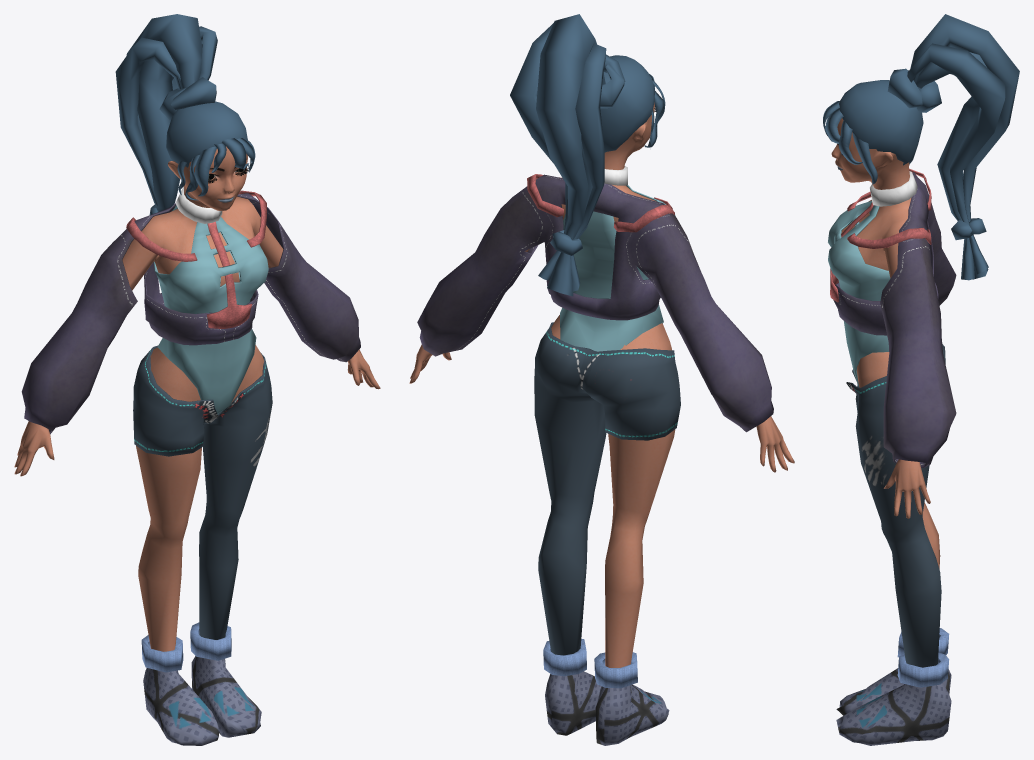
Rendered from normal girl2.gltf.
The picture shows the model from 3 angles, left to right: view 1: azimuth 30°, elevation 25°; view 2: azimuth 150°, elevation 25°; view 3: azimuth 270°, elevation 25°; orthographic projection. The views are drawn at different scales.
Visible parts, largest first — view 1: ribbons.001, body_Mesh.003, BezierCurve.003; view 2: ribbons.001, BezierCurve.003, body_Mesh.003; view 3: ribbons.001, BezierCurve.003, body_Mesh.003.
Part boxes in pixels (<box>): ribbons.001: <box>21,186,360,745</box>; body_Mesh.003: <box>14,146,380,651</box>; BezierCurve.003: <box>115,14,255,214</box>; ribbons.001: <box>417,166,773,745</box>; BezierCurve.003: <box>510,14,665,296</box>; body_Mesh.003: <box>409,102,794,667</box>; ribbons.001: <box>828,168,956,745</box>; BezierCurve.003: <box>823,14,1019,280</box>; body_Mesh.003: <box>831,118,940,569</box>.
Size of the model in its own units: 2.91 by 5.34 by 1.34.
Materials: 3 (3 with a texture image).
